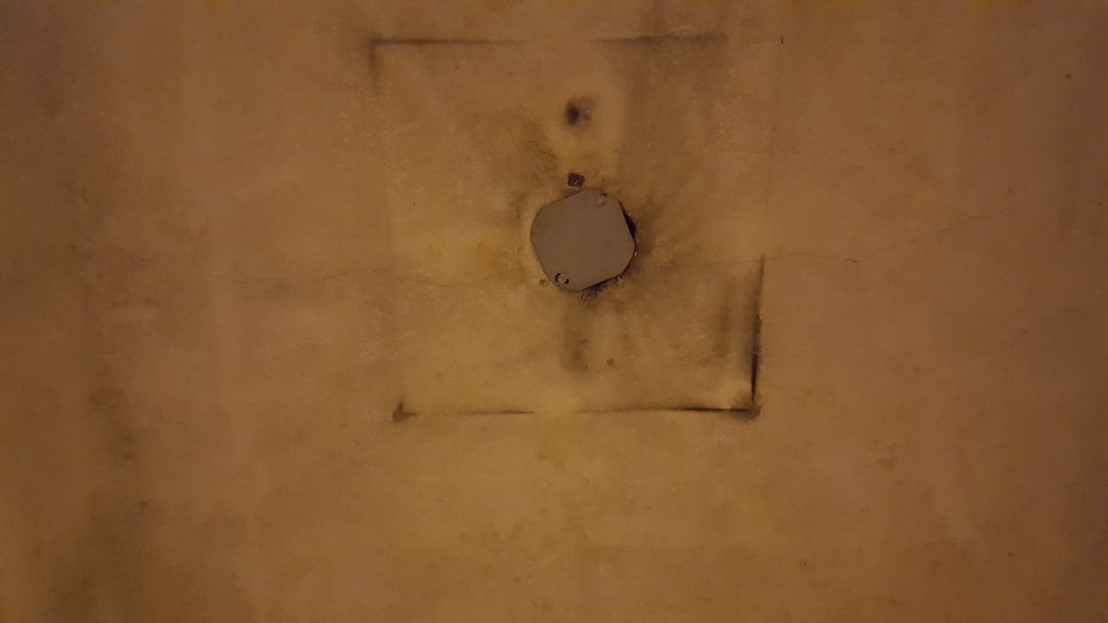Crack: (614, 190, 1108, 281), (67, 242, 561, 307)
